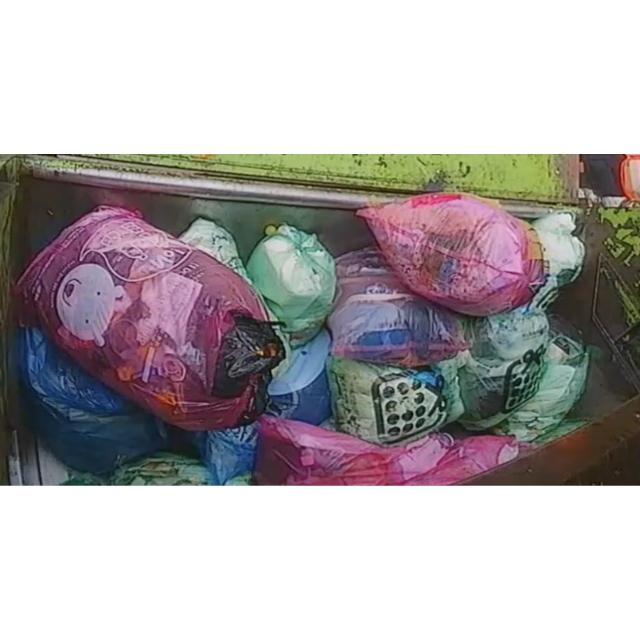general_trashbag: (328, 356, 464, 445), (459, 305, 549, 429), (246, 224, 336, 347), (494, 335, 589, 442), (528, 212, 585, 311), (62, 453, 212, 486), (179, 218, 252, 285), (226, 474, 251, 485)
other_trashbag: (15, 206, 282, 430), (356, 193, 544, 316), (21, 326, 165, 473), (254, 415, 519, 485), (328, 248, 470, 368), (252, 329, 331, 425), (196, 422, 259, 485)
